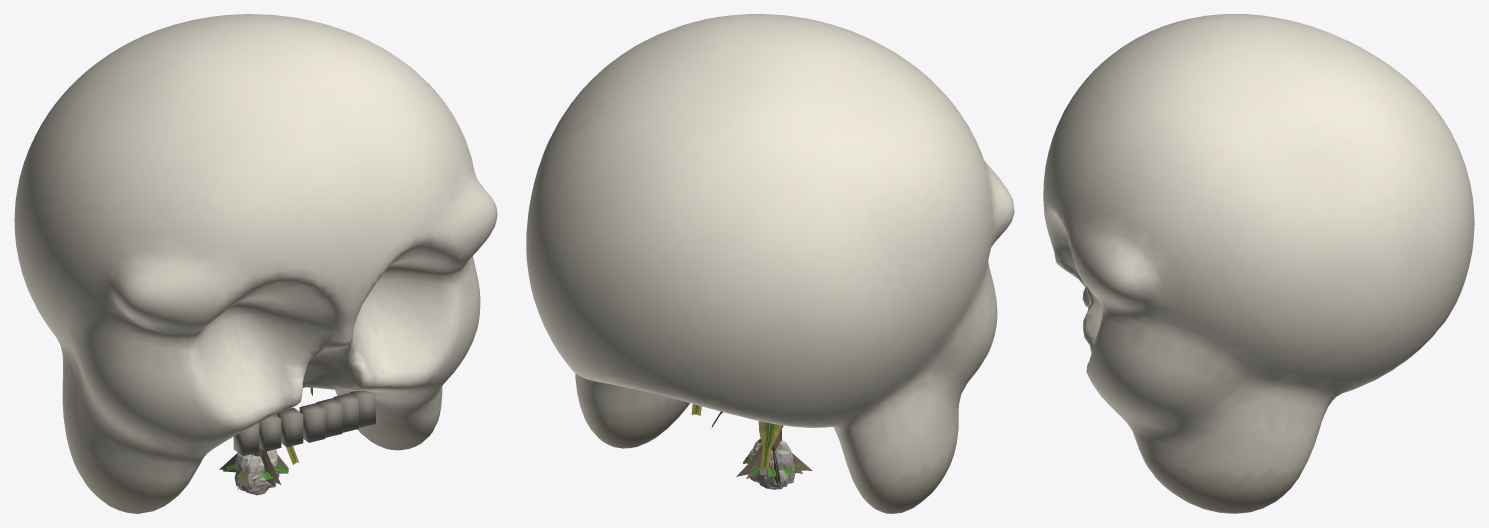
The model's file is nature_kit.webp.glb.
3 renders of one model, left to right at view 1: azimuth 30°, elevation 25°; view 2: azimuth 150°, elevation 25°; view 3: azimuth 270°, elevation 25°, orthographic. The views are drawn at different scales.
Visible parts, largest first — view 1: skull_LOD0, cliff1_LOD0; view 2: skull_LOD0, cliff1_LOD0, palm2_LOD0; view 3: skull_LOD0.
Boxes of the visible parts, x1=… form: skull_LOD0: x1=14, y1=14, x2=497, y2=513; cliff1_LOD0: x1=235, y1=449, x2=279, y2=492; skull_LOD0: x1=526, y1=14, x2=1014, y2=513; cliff1_LOD0: x1=749, y1=438, x2=793, y2=485; palm2_LOD0: x1=711, y1=411, x2=782, y2=469; skull_LOD0: x1=1043, y1=14, x2=1474, y2=513.
Size of what is drawn, in the model's own units: 31.9 by 34.28 by 31.35.
1 material, 1 textured.
